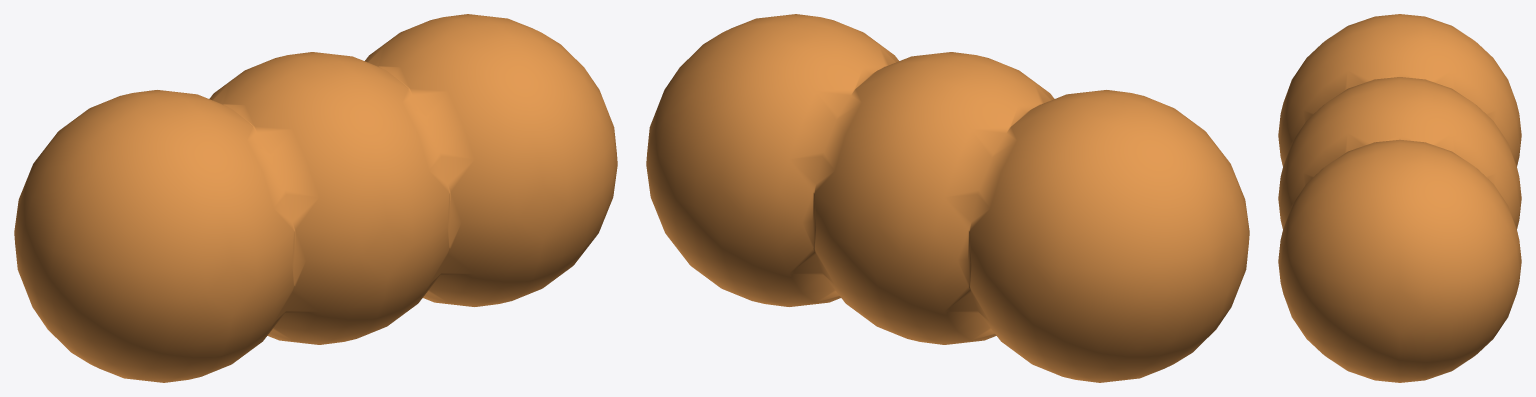
Rendered from expected.gltf.
3 renders of one model, left to right at view 1: azimuth 30°, elevation 25°; view 2: azimuth 150°, elevation 25°; view 3: azimuth 270°, elevation 25°, orthographic. The views are drawn at different scales.
Bounding box in the file's own units: 40 × 18 × 18.
